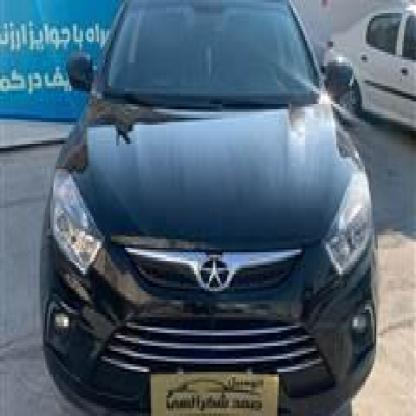Car: (40, 0, 388, 416), (317, 0, 416, 138)
